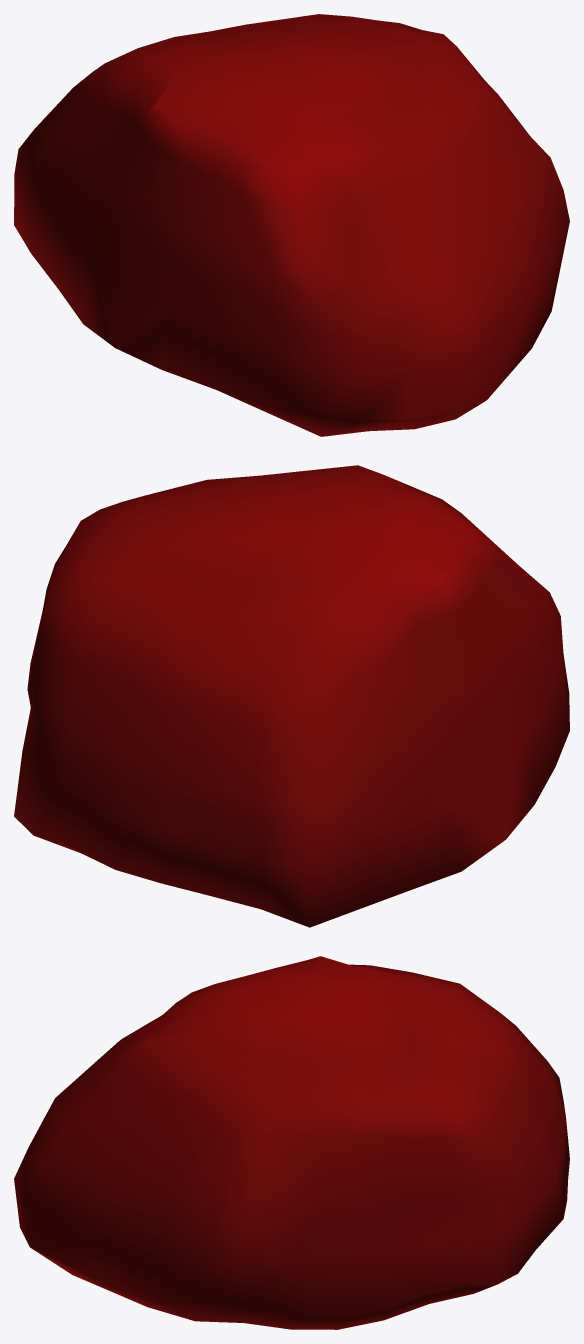
File: geology-rocks-rockmedium_v3.fbx
3 renders of one model, top to bottom at view 1: azimuth 30°, elevation 25°; view 2: azimuth 150°, elevation 25°; view 3: azimuth 270°, elevation 25°, orthographic. The views are drawn at different scales.
Visible parts, largest first — view 1: RockMedium_v3; view 2: RockMedium_v3; view 3: RockMedium_v3.
Boxes of the visible parts, box(x1,y1,x2,y2) form: RockMedium_v3: box(14, 14, 569, 436); RockMedium_v3: box(14, 465, 569, 927); RockMedium_v3: box(14, 956, 569, 1329).
Bounding box in the file's own units: 3.16 × 2.06 × 4.02.
